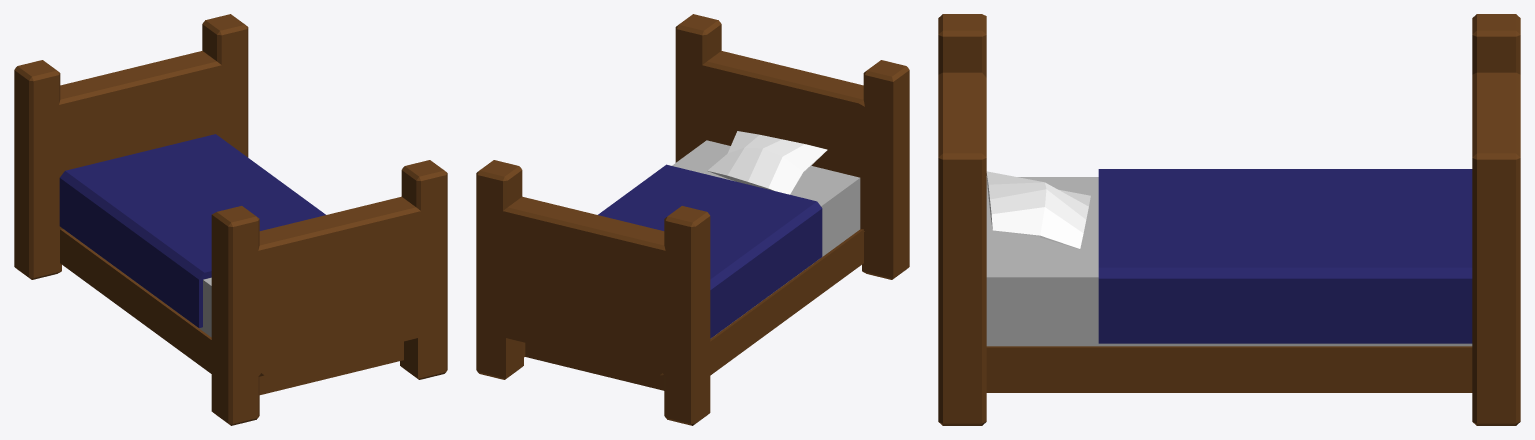
Rendered from Bed_single.glb.
The picture shows the model from 3 angles, left to right: view 1: azimuth 30°, elevation 25°; view 2: azimuth 150°, elevation 25°; view 3: azimuth 270°, elevation 25°; orthographic projection. The views are drawn at different scales.
Parts seen in each view (by area): view 1: Bed_Single; view 2: Bed_Single; view 3: Bed_Single.
Boxes of the visible parts, x1=… form: Bed_Single: x1=14, y1=14, x2=447, y2=425; Bed_Single: x1=476, y1=14, x2=909, y2=425; Bed_Single: x1=938, y1=14, x2=1520, y2=425.
Size of the model in its own units: 1.62 by 1.44 by 2.78.
